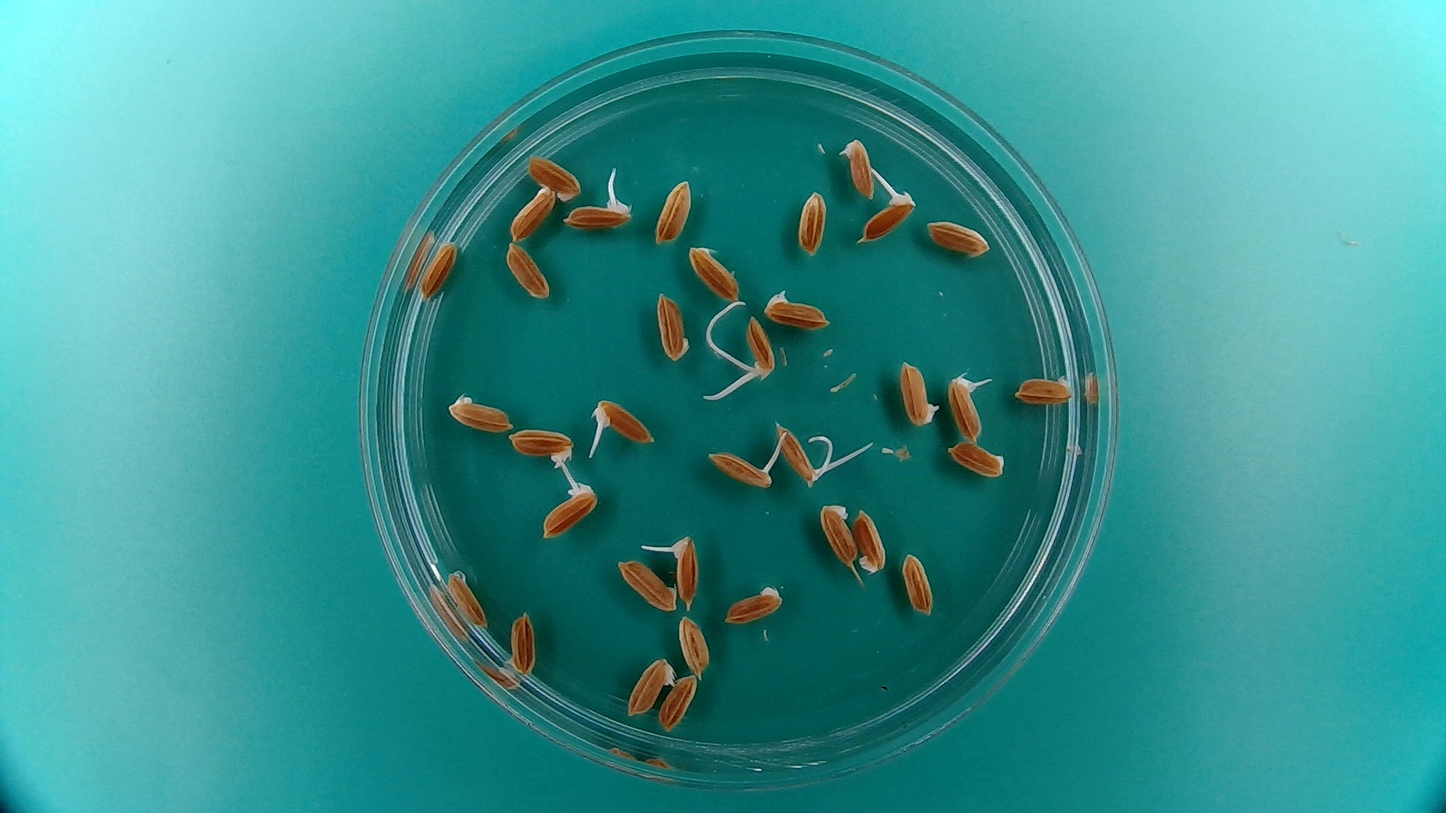no: (685, 243, 746, 306), (615, 555, 678, 612), (817, 495, 860, 575), (650, 174, 696, 248), (503, 239, 554, 302), (444, 389, 515, 434), (442, 565, 490, 630), (721, 581, 787, 628), (507, 181, 557, 242), (654, 288, 694, 364), (923, 217, 993, 260), (525, 151, 584, 202), (944, 437, 1011, 480), (506, 425, 578, 464), (851, 504, 889, 577), (795, 184, 831, 257), (417, 240, 460, 301), (901, 549, 938, 618), (658, 674, 700, 734), (1011, 369, 1078, 406), (505, 608, 539, 679), (676, 616, 712, 677)
yes: (592, 392, 658, 449), (623, 653, 678, 717), (859, 184, 920, 241), (896, 355, 941, 430), (773, 421, 823, 487), (538, 483, 596, 539), (662, 532, 703, 611), (758, 287, 832, 330), (946, 367, 986, 442), (837, 134, 877, 200), (708, 454, 778, 491), (560, 198, 633, 230), (743, 312, 779, 376)
